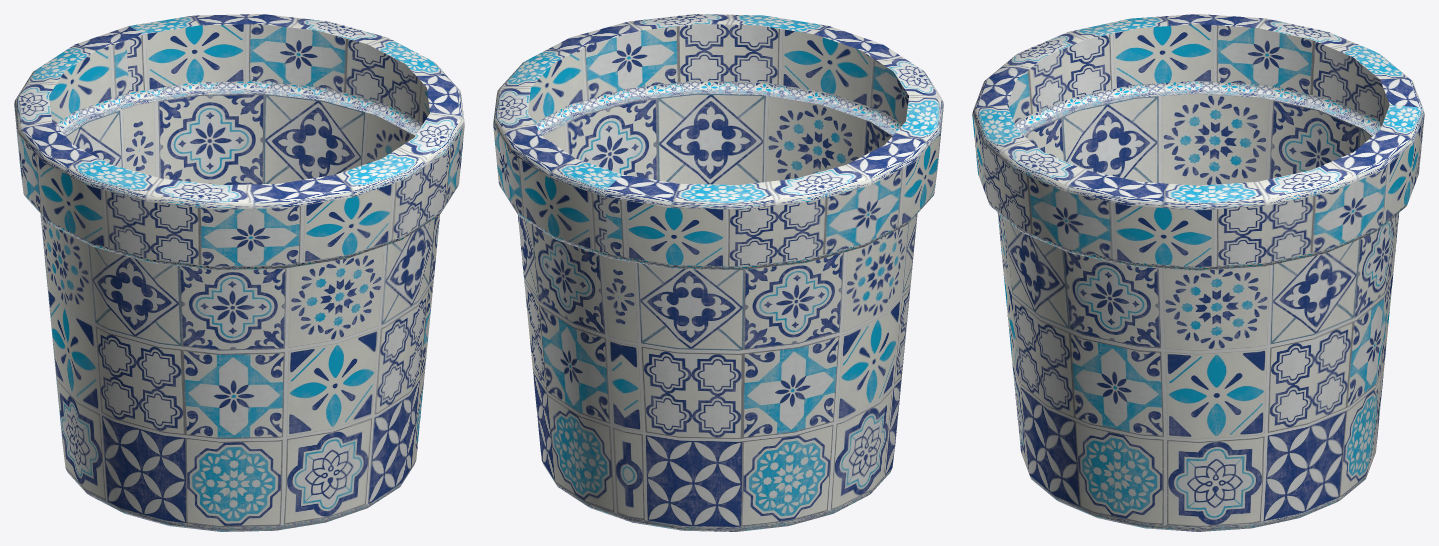
The model's file is mdl_paprika_pot.gltf.
3 views of the same model, side by side, from view 1: azimuth 30°, elevation 25°; view 2: azimuth 150°, elevation 25°; view 3: azimuth 270°, elevation 25° (orthographic).
Visible parts, largest first — view 1: FlowerPot1; view 2: FlowerPot1; view 3: FlowerPot1.
Boxes of the visible parts, x1=… form: FlowerPot1: x1=14, y1=14, x2=464, y2=531; FlowerPot1: x1=493, y1=14, x2=943, y2=531; FlowerPot1: x1=972, y1=14, x2=1424, y2=531.
Size of the model in its own units: 0.173 by 0.1499 by 0.173.
Materials: 1 (1 with a texture image).
